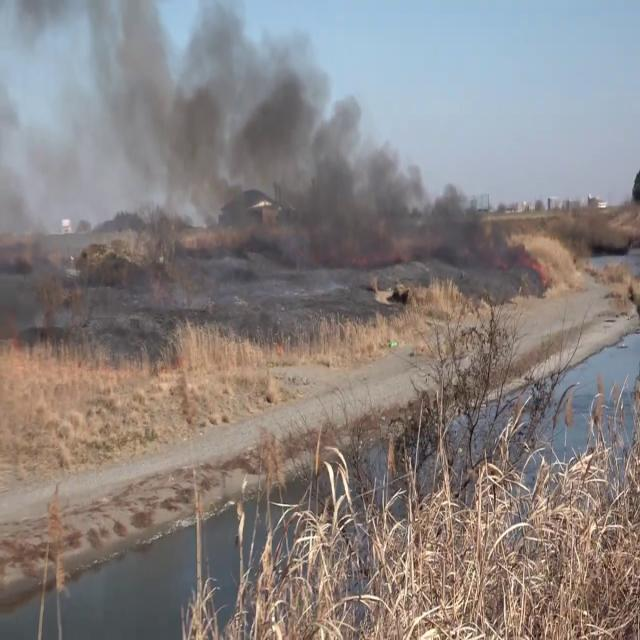Smoke: (60, 0, 506, 309)
